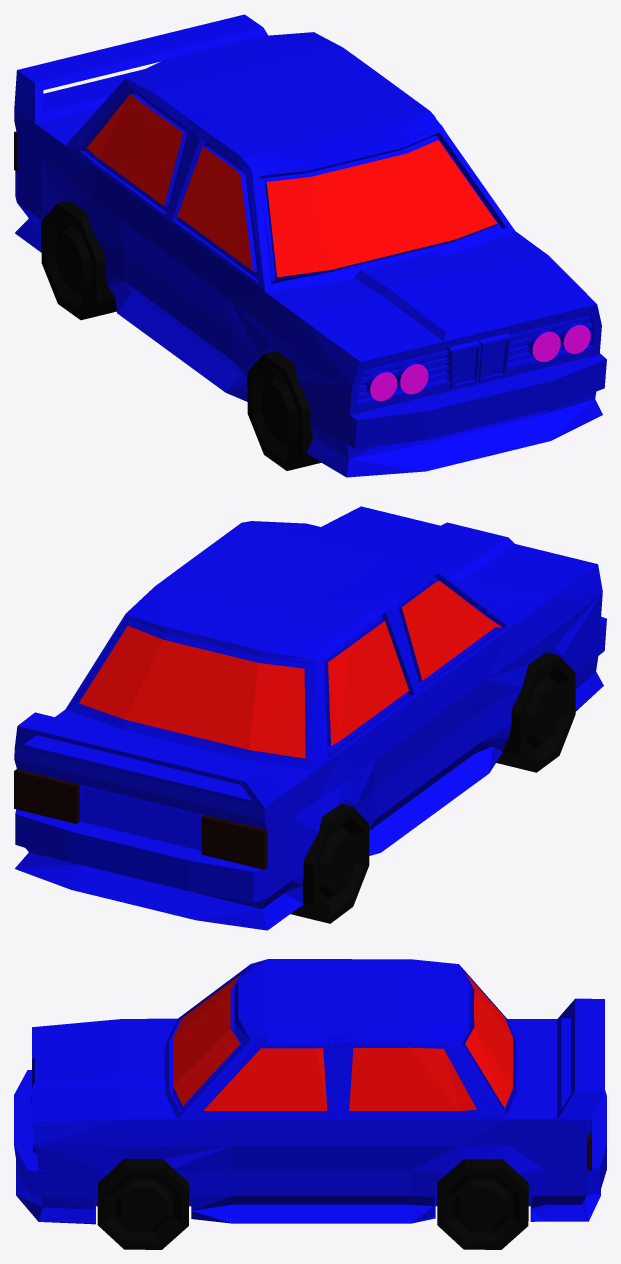
The model's file is CarTexture.obj.
The picture shows the model from 3 angles, top to bottom: view 1: azimuth 30°, elevation 25°; view 2: azimuth 150°, elevation 25°; view 3: azimuth 270°, elevation 25°; orthographic projection. The views are drawn at different scales.
Visible parts, largest first — view 1: low_poly_e30_rally; view 2: low_poly_e30_rally; view 3: low_poly_e30_rally.
Part boxes in pixels (x1=…): low_poly_e30_rally: x1=14, y1=14, x2=606, y2=477; low_poly_e30_rally: x1=14, y1=506, x2=606, y2=930; low_poly_e30_rally: x1=14, y1=959, x2=606, y2=1249.
Size of the model in its own units: 46.18 by 39.03 by 106.
